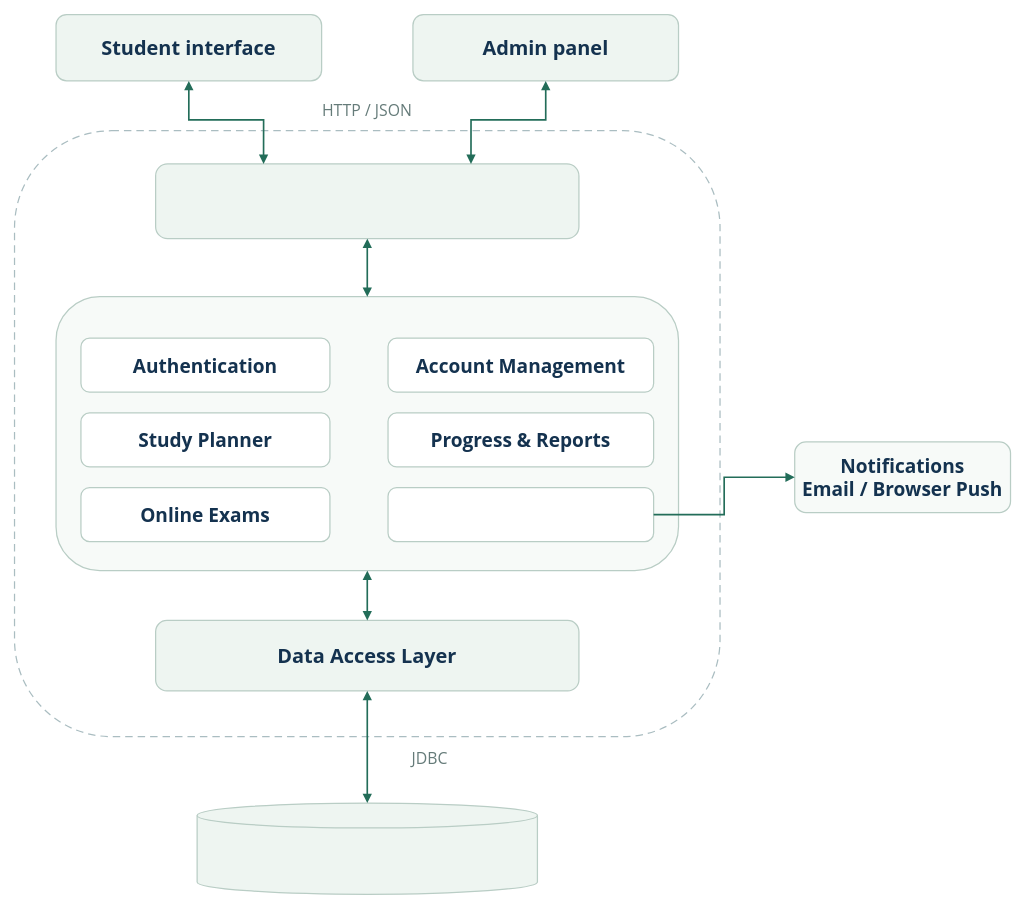
This 1026x910 diagram has some shape labels left out. The shapes that lost their labels are listed below. From the top down, each one's box as (x1, y1, x2, y2) in pixels, then its label:
(155, 163, 579, 239): Java Application Logic
(55, 296, 679, 571): Application Services
(387, 487, 654, 542): Reminders
(196, 802, 538, 895): MySQL Database
